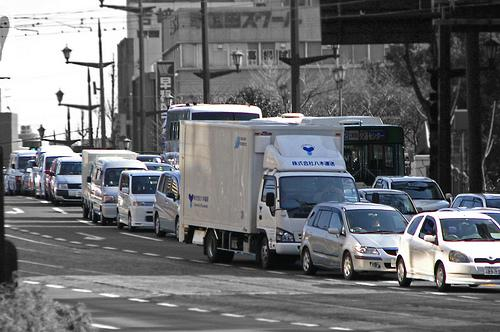truck: (179, 120, 380, 271)
